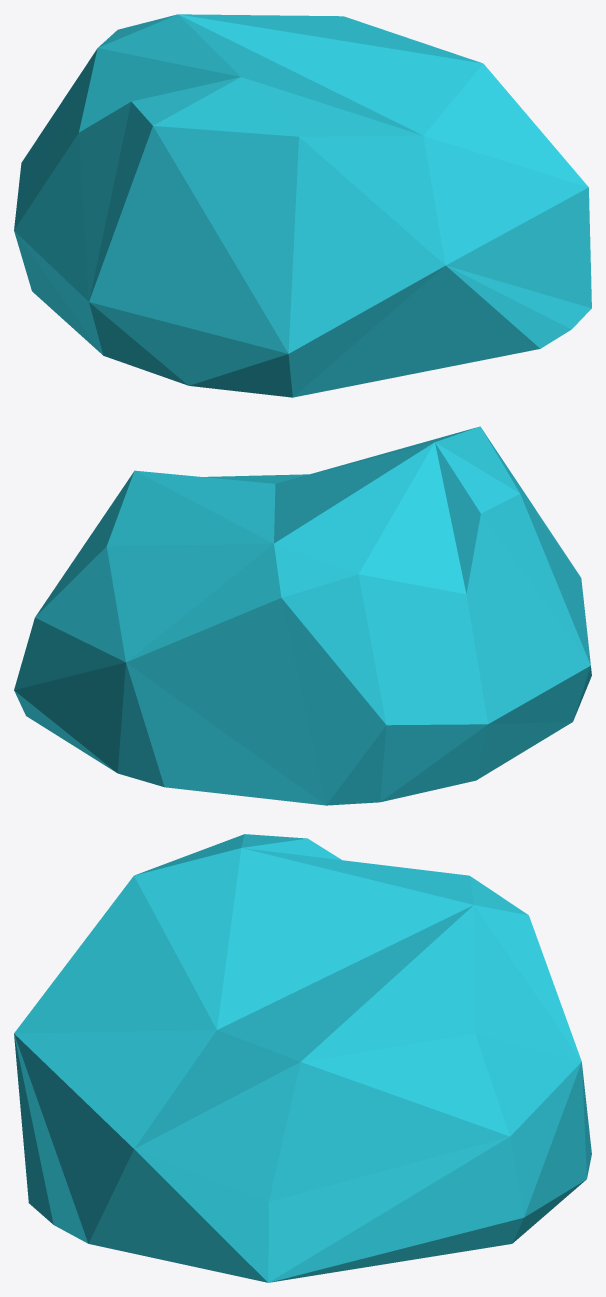
Rendered from hard_beanbag_1.fbx.
3 renders of one model, top to bottom at view 1: azimuth 30°, elevation 25°; view 2: azimuth 150°, elevation 25°; view 3: azimuth 270°, elevation 25°, orthographic. The views are drawn at different scales.
Parts seen in each view (by area): view 1: hard_beanbag_1; view 2: hard_beanbag_1; view 3: hard_beanbag_1.
Boxes of the visible parts, box(x1,y1,x2,y2) form: hard_beanbag_1: box(14, 14, 591, 397); hard_beanbag_1: box(14, 426, 591, 805); hard_beanbag_1: box(14, 834, 591, 1282).
Size of the model in its own units: 5.52 by 2.55 by 5.23.
